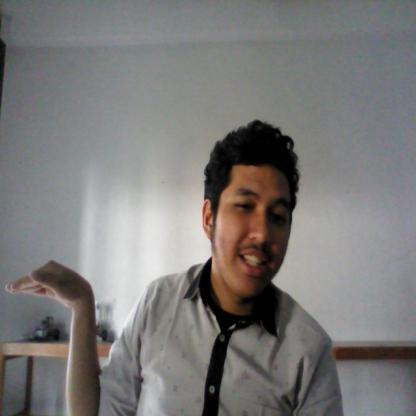Z: (5, 260, 100, 413)
